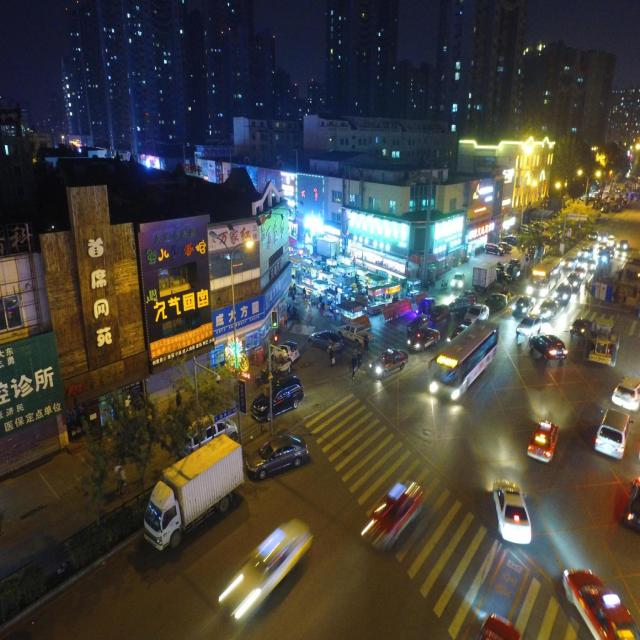car: (217, 517, 313, 623), (562, 568, 640, 640), (360, 479, 424, 553), (244, 430, 308, 481), (492, 478, 532, 544), (593, 407, 632, 460), (526, 419, 559, 464), (368, 348, 409, 379), (528, 334, 568, 361), (610, 376, 640, 412), (622, 476, 640, 532), (307, 329, 343, 352)
tree: (74, 360, 236, 523)
